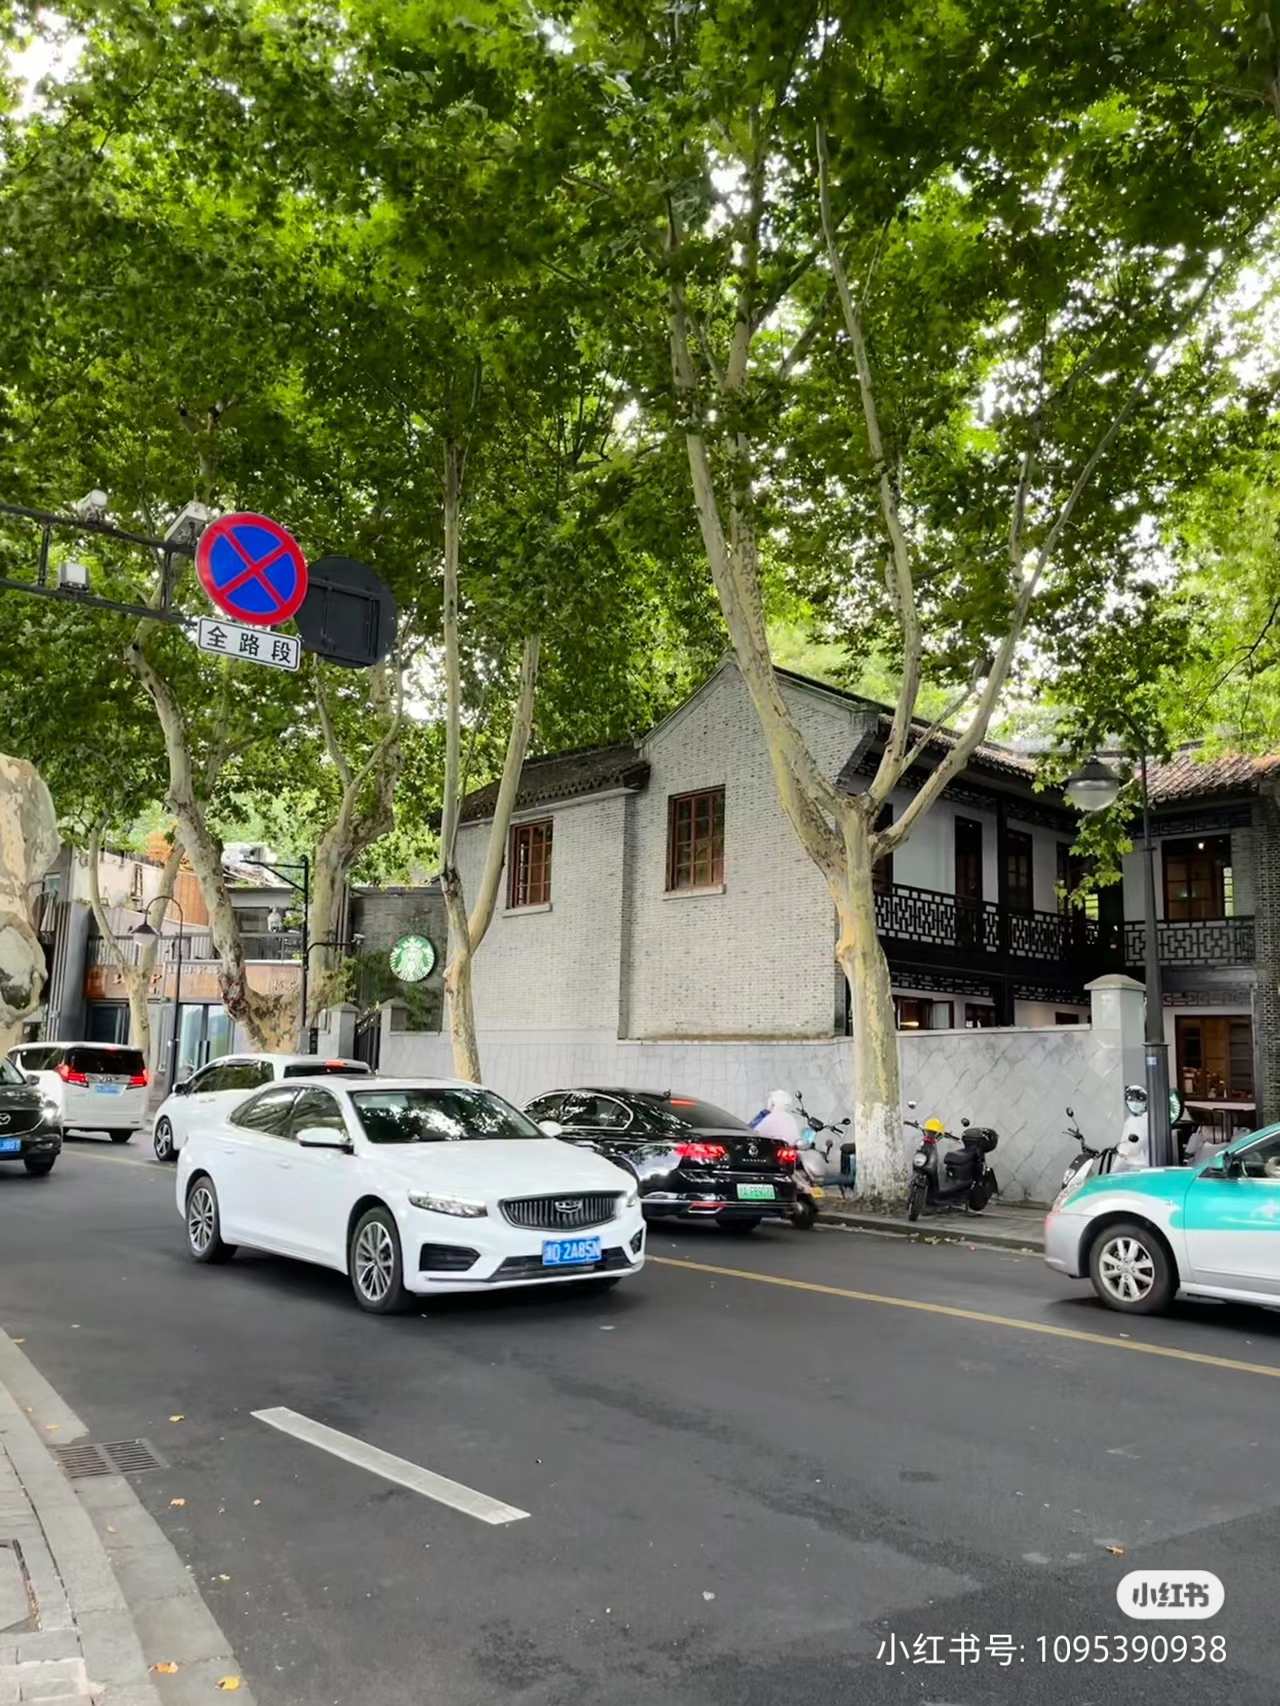pn: (198, 514, 308, 631)
